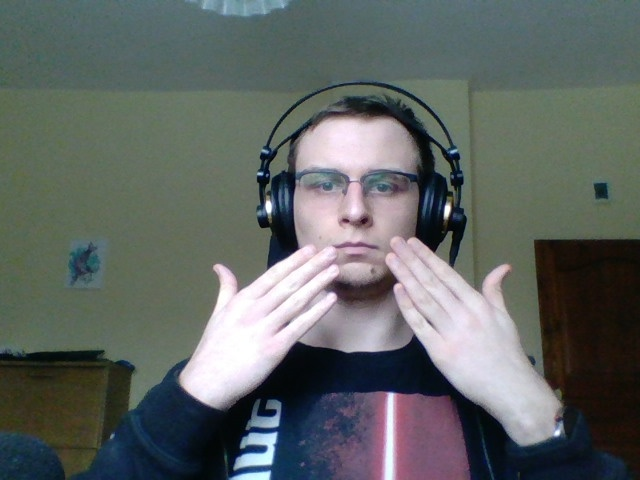thanks: (157, 223, 586, 449)
